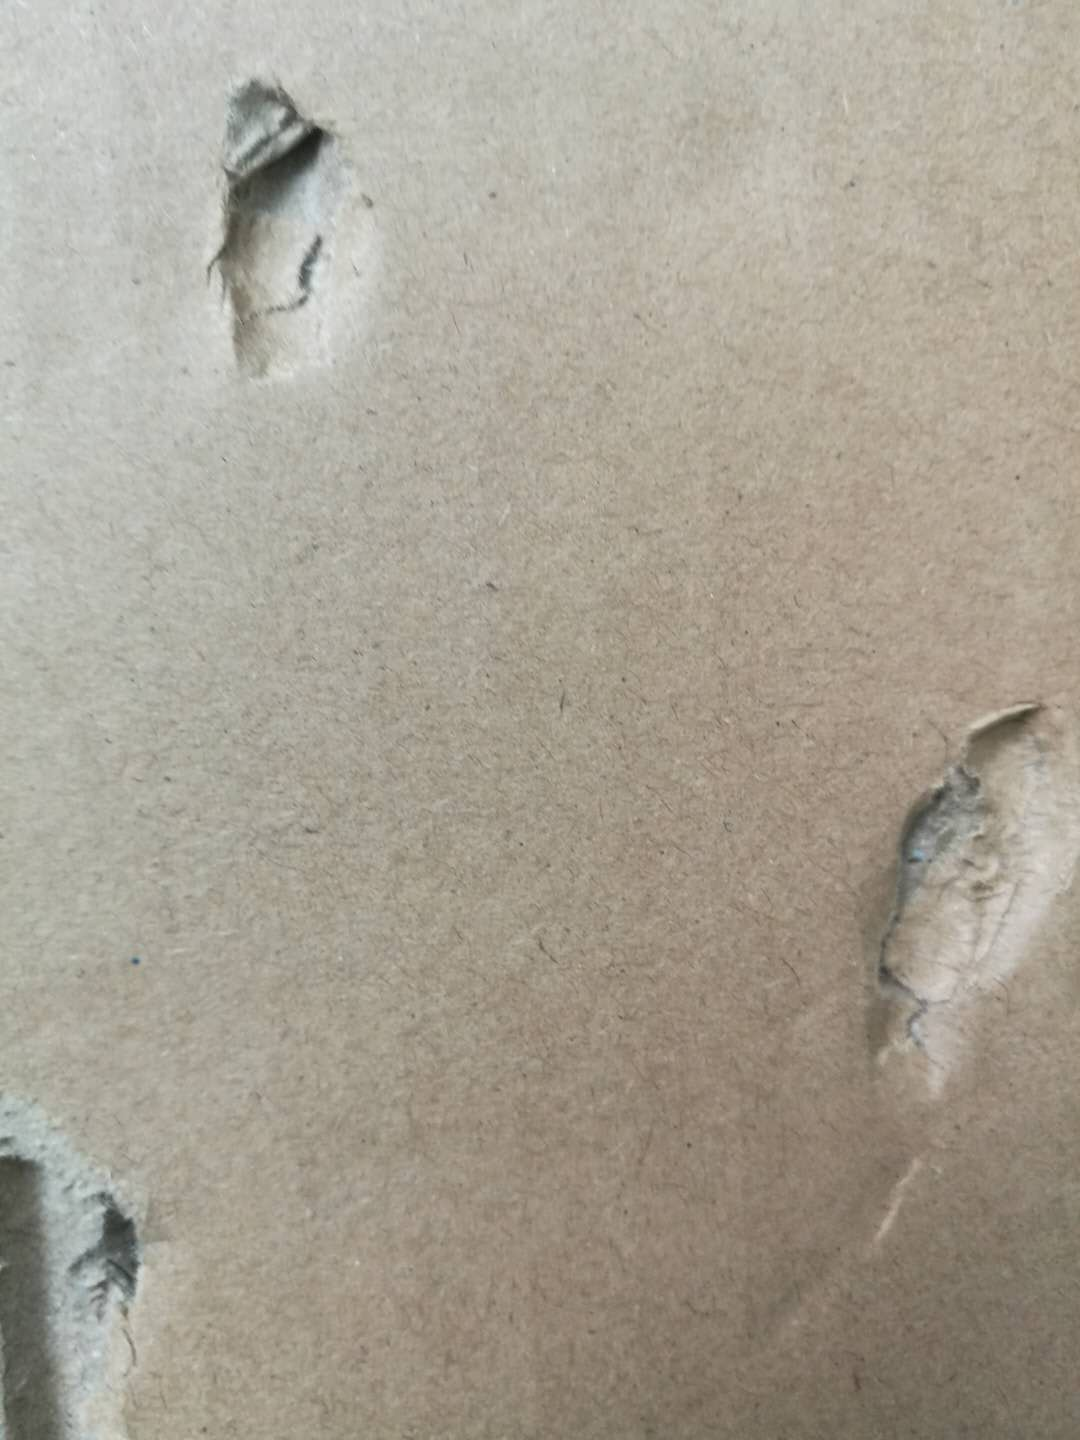defect: (726, 659, 1080, 1358), (175, 56, 415, 424), (2, 1064, 199, 1440)
